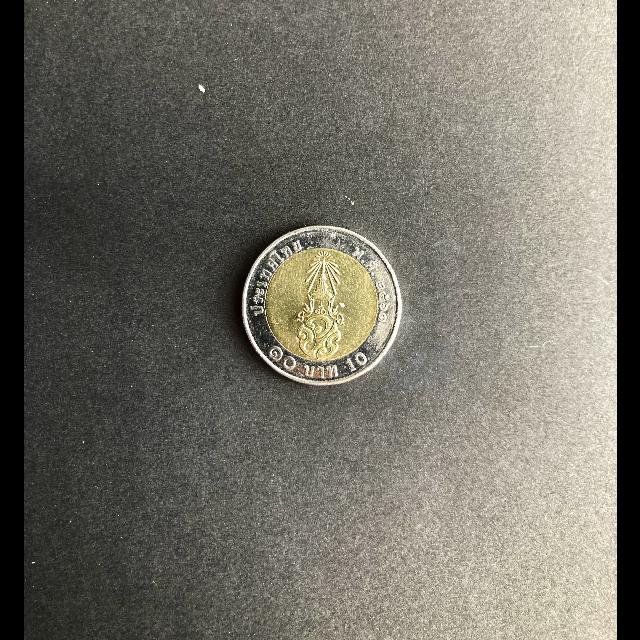10 Bath: (240, 222, 406, 390)
